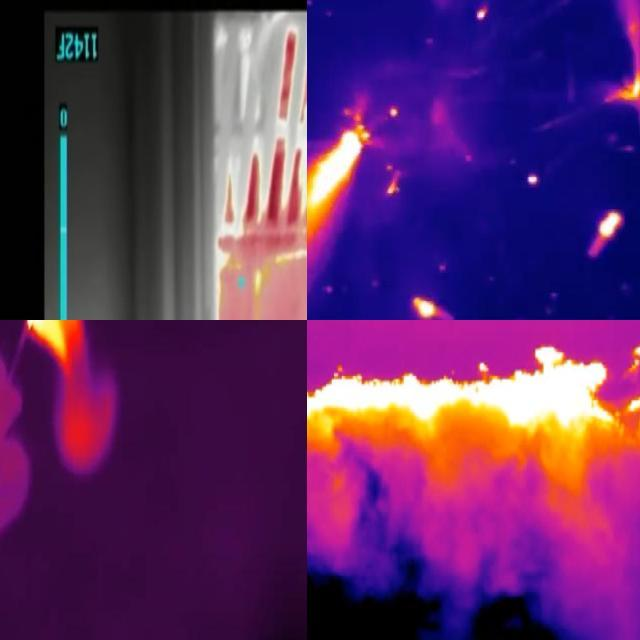fire: (308, 342, 640, 484), (215, 133, 308, 321), (308, 101, 377, 271), (23, 321, 93, 391), (592, 206, 624, 252), (410, 296, 452, 321)
